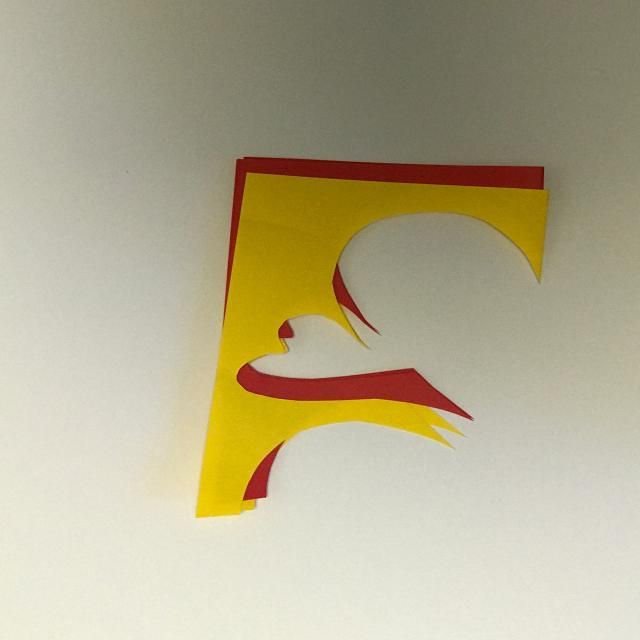paper: (137, 130, 573, 545)
